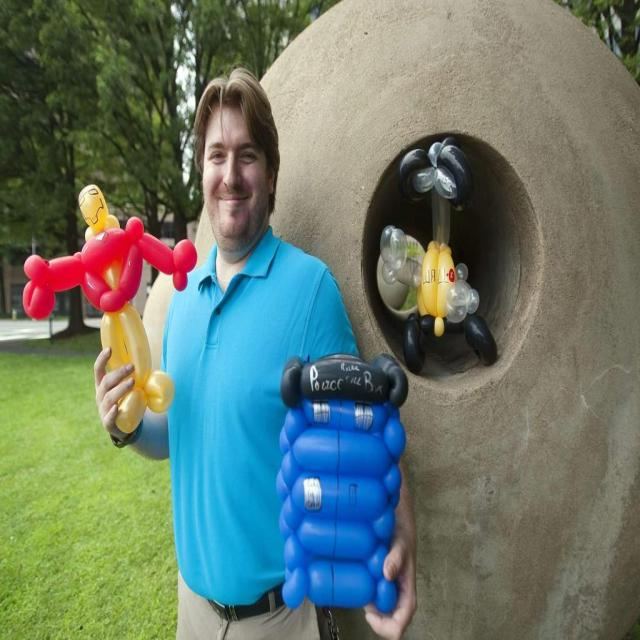Face: (199, 94, 273, 251)
